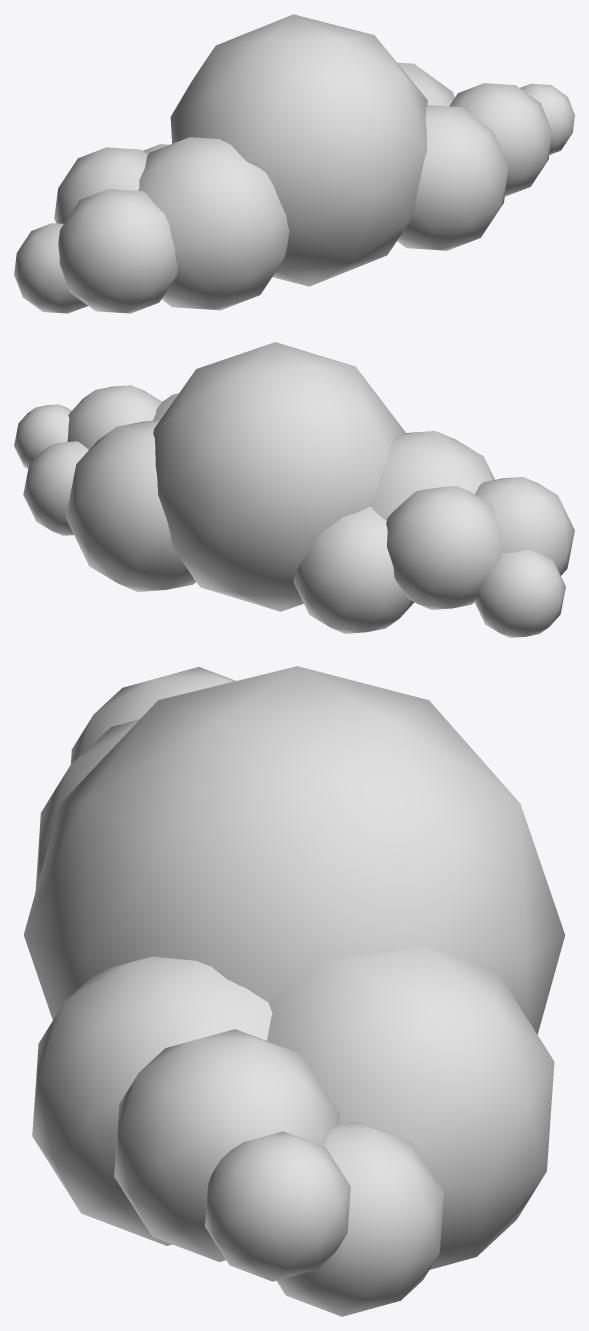
Rendered from cloud_1.fbx.
3 views of the same model, one above another, from view 1: azimuth 30°, elevation 25°; view 2: azimuth 150°, elevation 25°; view 3: azimuth 270°, elevation 25° (orthographic). The views are drawn at different scales.
Parts seen in each view (by area): view 1: Cloud 1; view 2: Cloud 1; view 3: Cloud 1.
Boxes of the visible parts, x1,y1,x2,y2 form: Cloud 1: [14, 14, 574, 313]; Cloud 1: [14, 342, 574, 637]; Cloud 1: [24, 666, 565, 1316].
Bounding box in the file's own units: 834 × 344 × 359.
